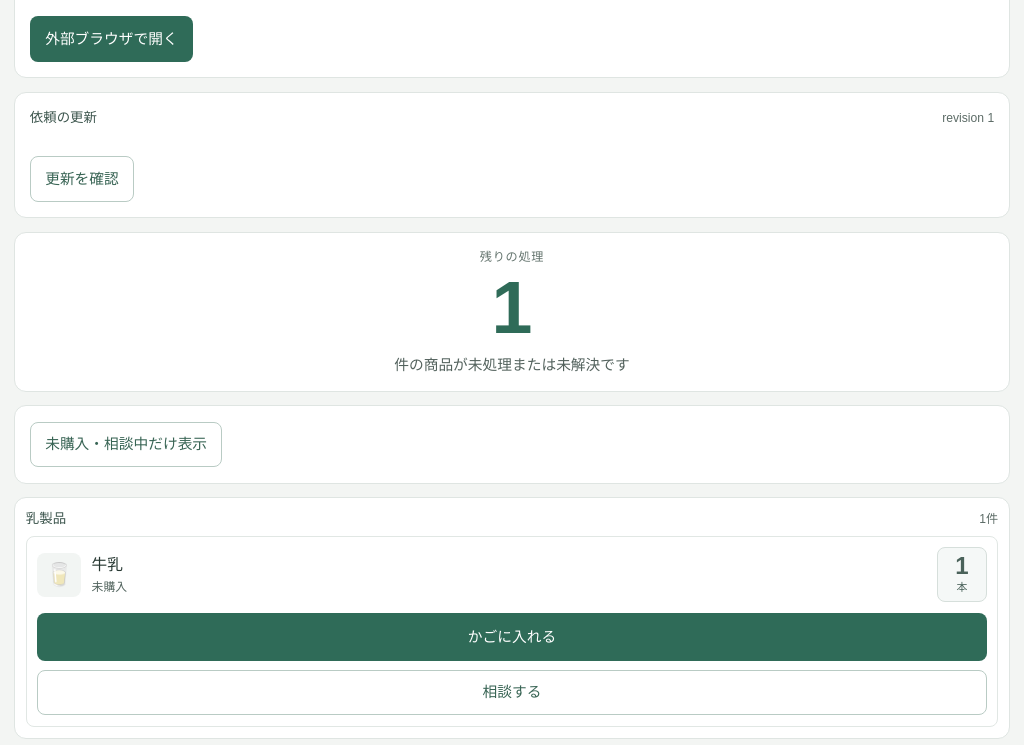
Test case: ShoppingListPage live request synchronization › keeps a requester cancellation as history with progress-specific wording
(page scrolled)
Click the button "かごに入れる": {"x": 512, "y": 637} [37,613,987,661]
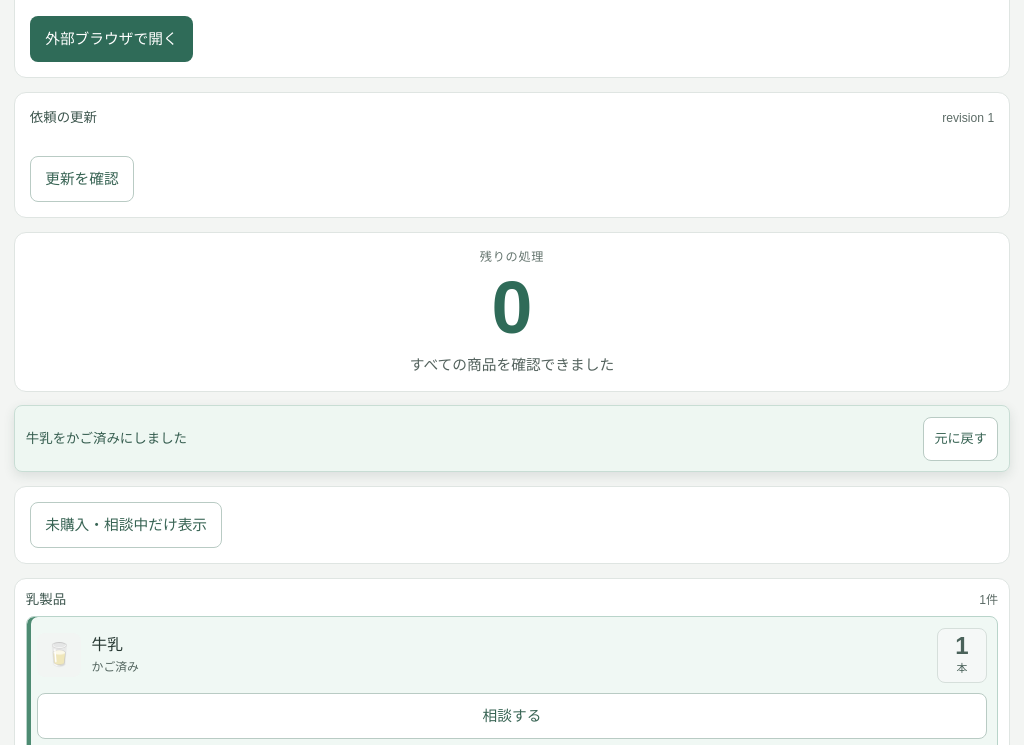
Click the button "更新を確認": {"x": 82, "y": 179} [30,156,134,202]
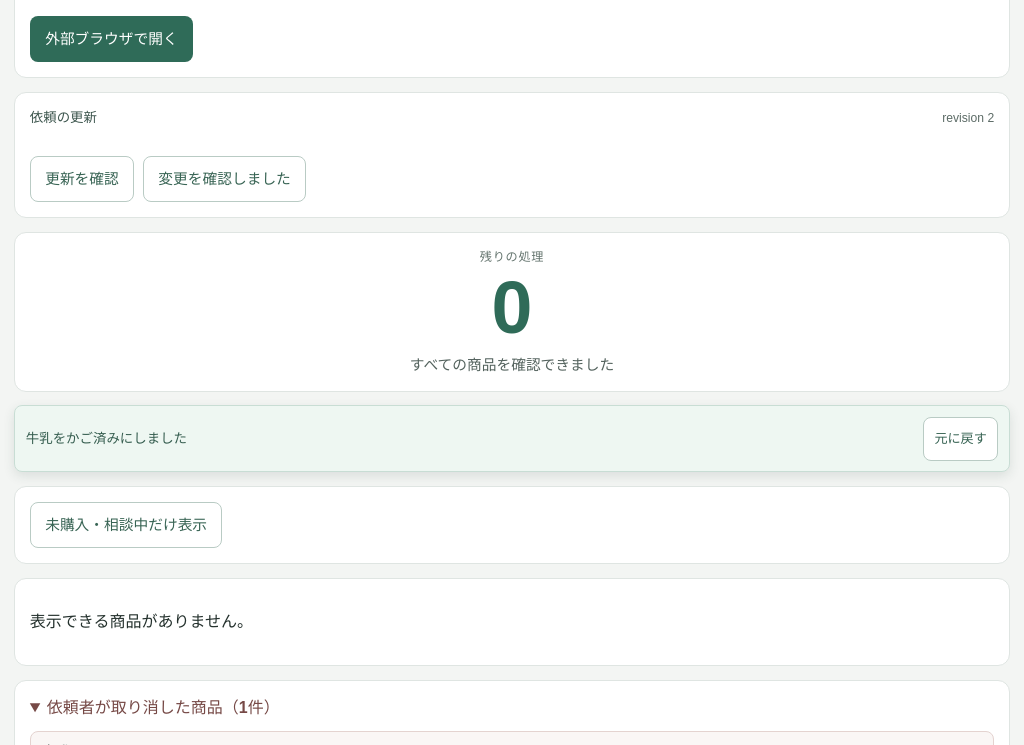
Check: the text "依頼者が取り消した商品（1件）" is shown, box [47,699,280,716]
Check: the text "表示できる商品がありません" is shown, box [30,613,253,630]
